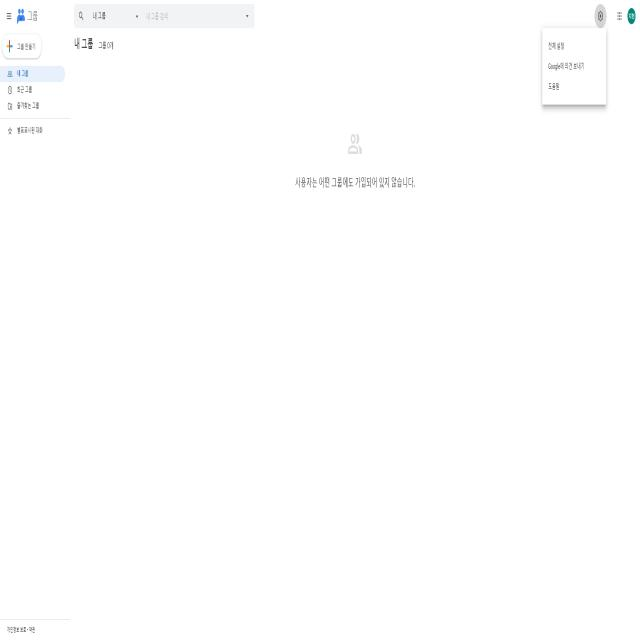menu-bar: (593, 2, 639, 28)
search: (74, 3, 253, 30)
